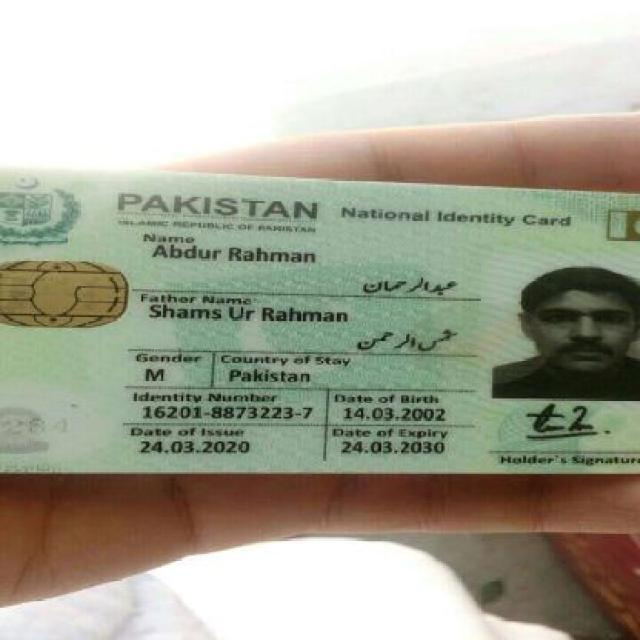Front: (11, 157, 629, 486)
